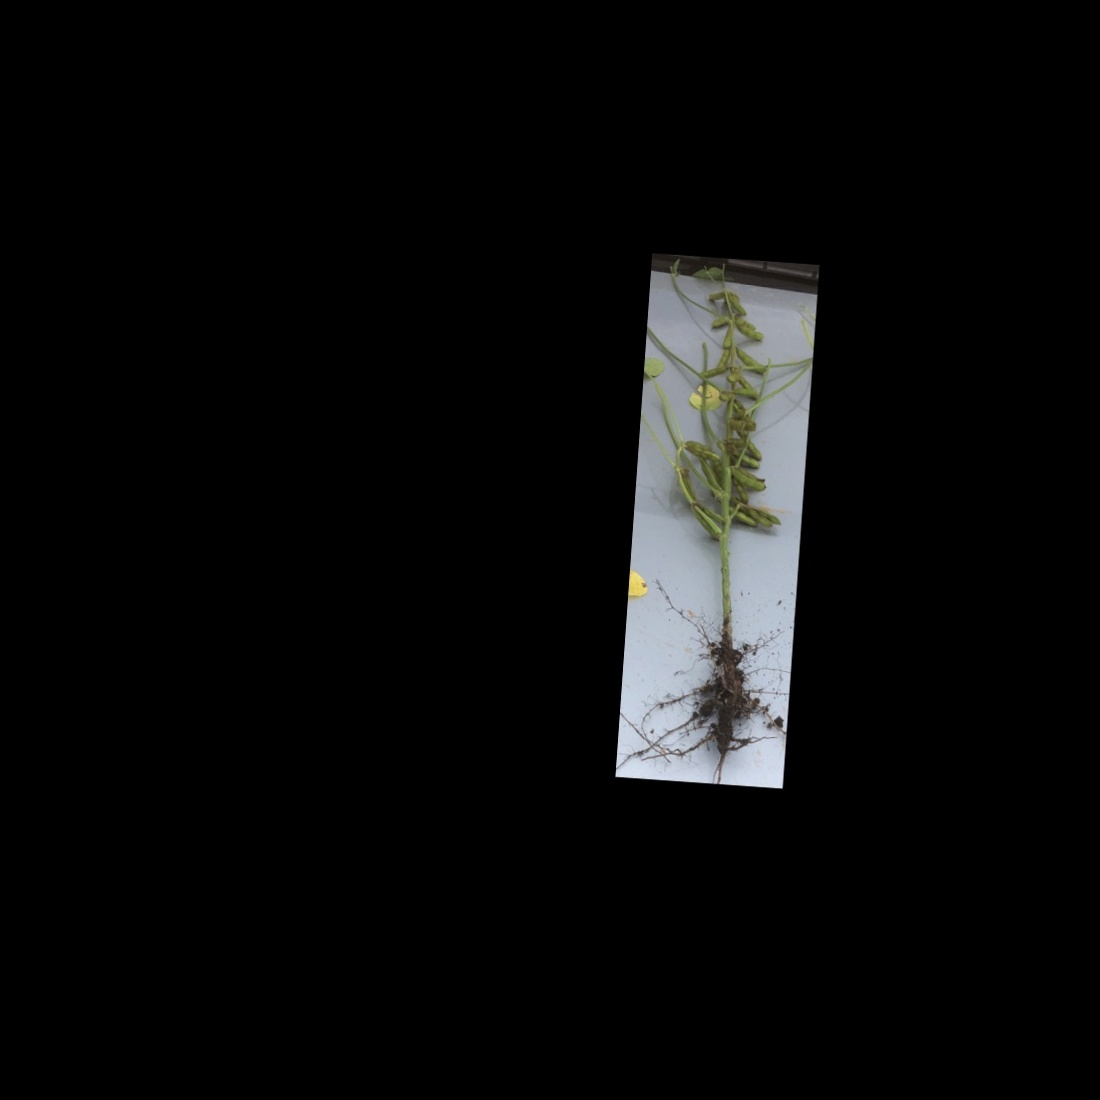pod: (730, 345, 770, 374), (730, 319, 766, 340), (728, 475, 751, 506), (726, 506, 758, 528), (697, 362, 731, 381), (725, 292, 748, 317), (708, 311, 732, 330), (704, 287, 727, 303), (715, 347, 730, 370), (720, 328, 732, 349)
soy: (629, 260, 810, 766)
